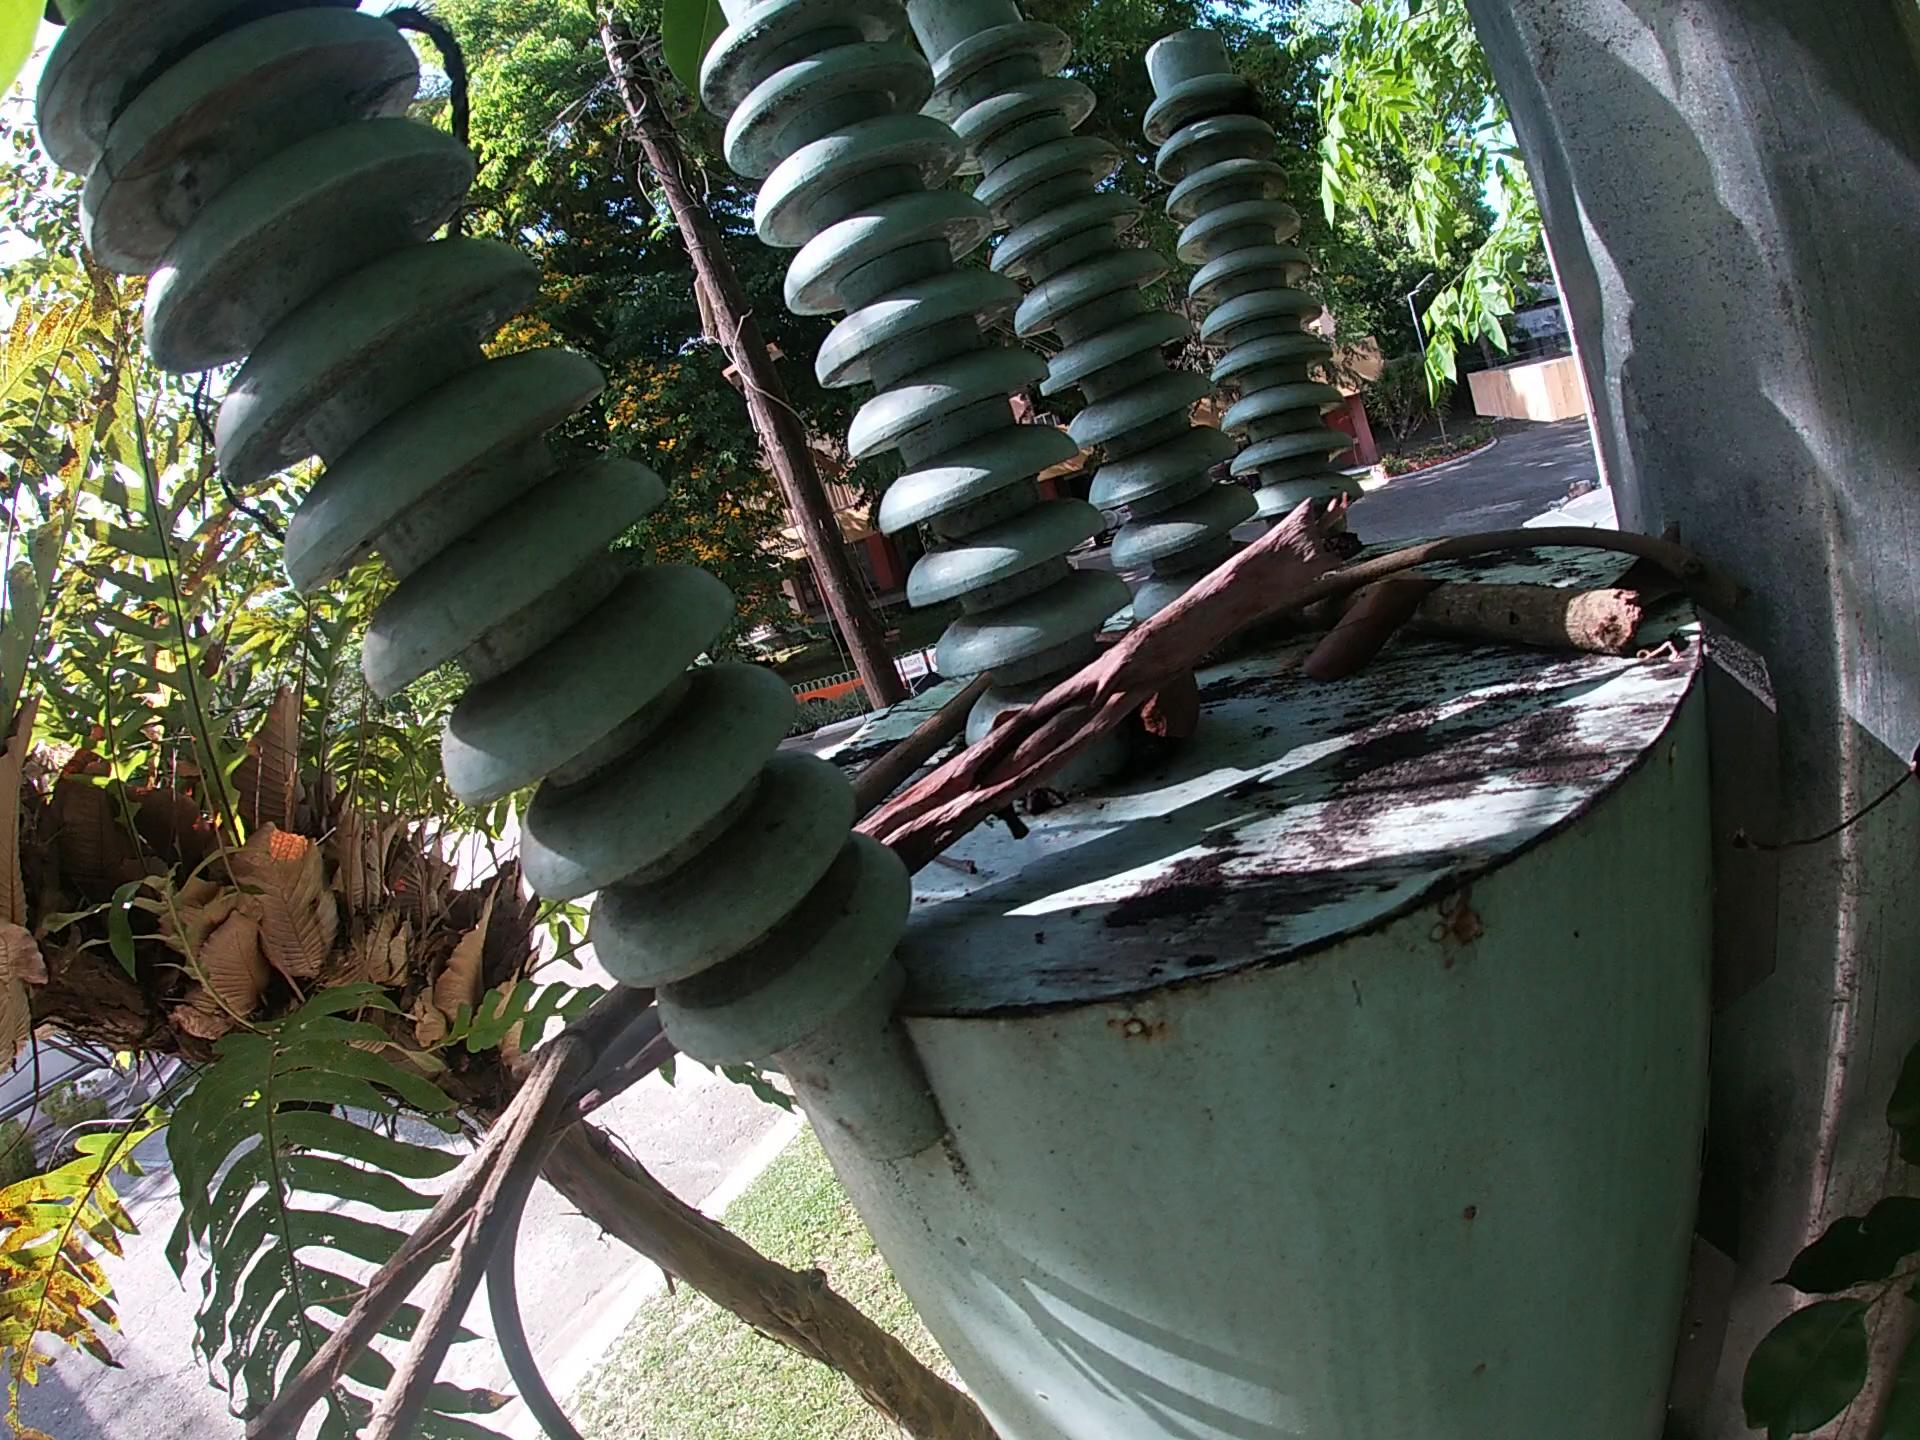leaf: (1293, 569, 1448, 687)
tree branch: (228, 985, 658, 1440), (847, 492, 1349, 879), (1267, 525, 1757, 622), (1287, 581, 1646, 666), (841, 669, 993, 821), (552, 1029, 677, 1128)
